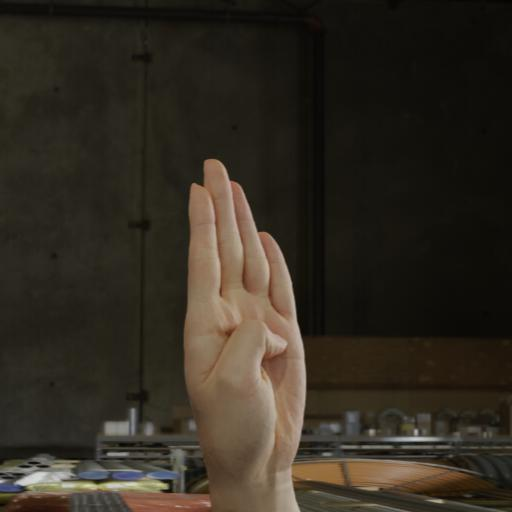B: (170, 148, 321, 498)
